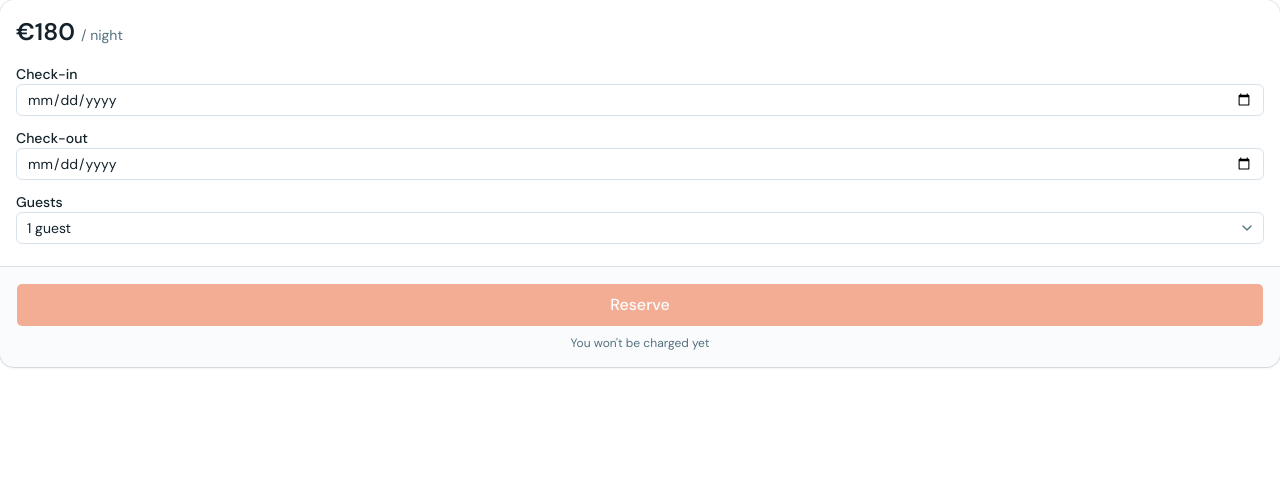
Scenario: StayAvailabilityPanel › shows the price breakdown once a quote comes back available
This screenshot has width=1280, height=503.
Type "2026-07-10" into the date field labelled "Check-in". click: (640, 100)
box: x1=16 y1=84 x2=1264 y2=116
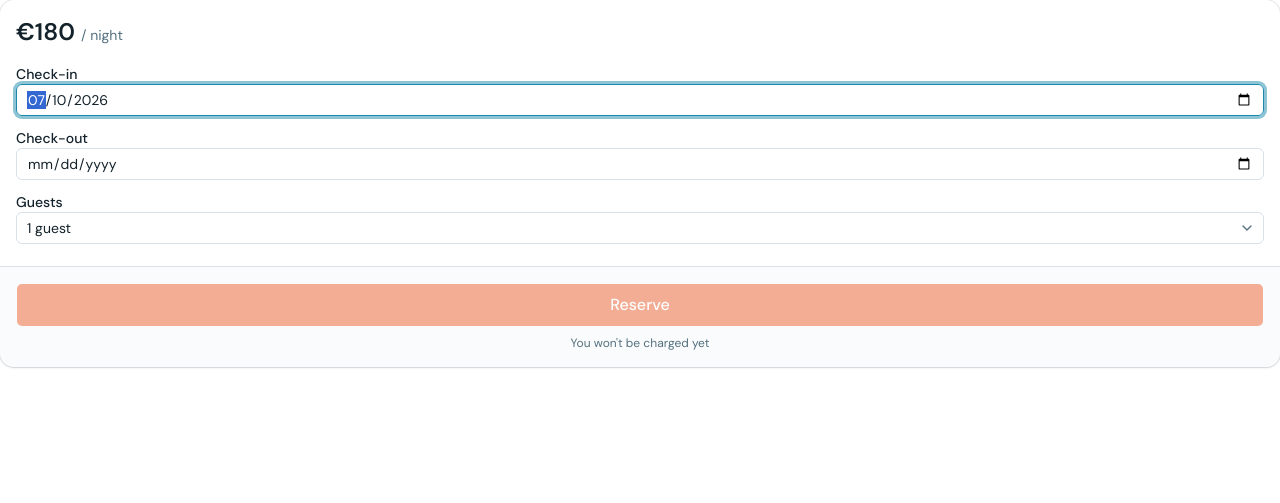
Type "2026-07-12" into the date field labelled "Check-out". click: (640, 164)
box: x1=16 y1=148 x2=1264 y2=180
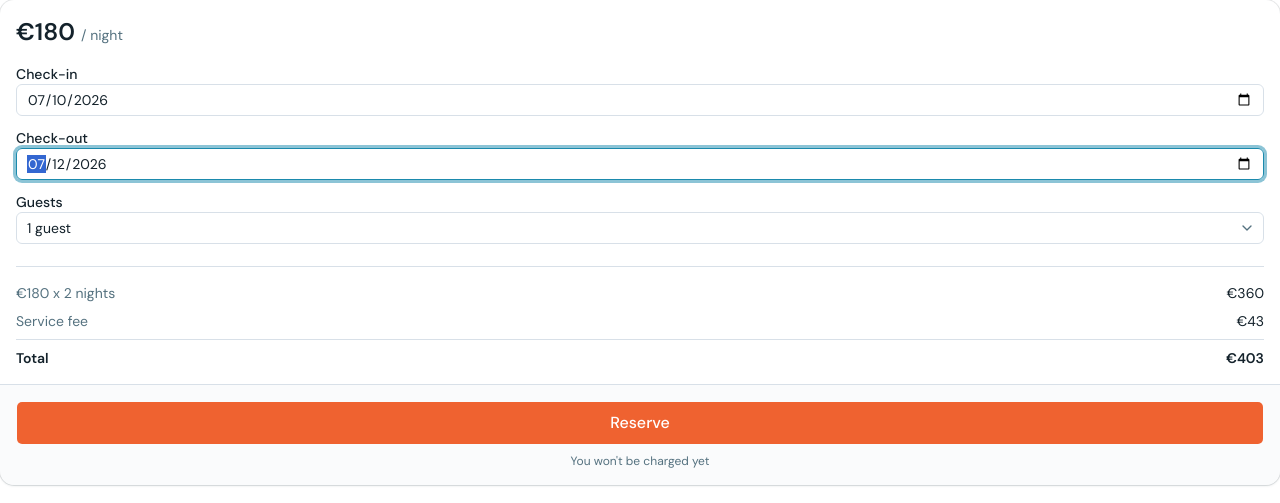
Result: the text "Total" is shown at x1=16 y1=348 x2=49 y2=368
Result: the text "€403" is shown at x1=1226 y1=348 x2=1264 y2=368
Result: the text "€360" is shown at x1=1227 y1=283 x2=1264 y2=303
